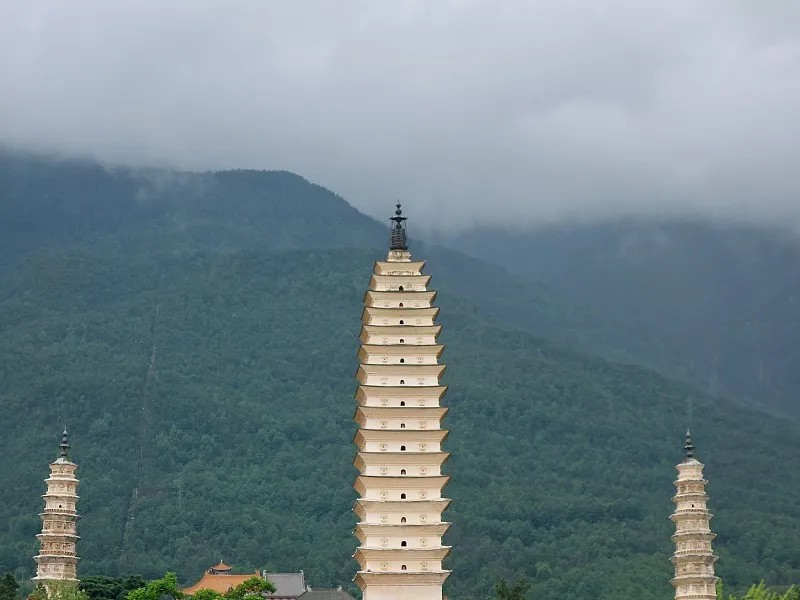ThreePagoda: (352, 198, 452, 600)
